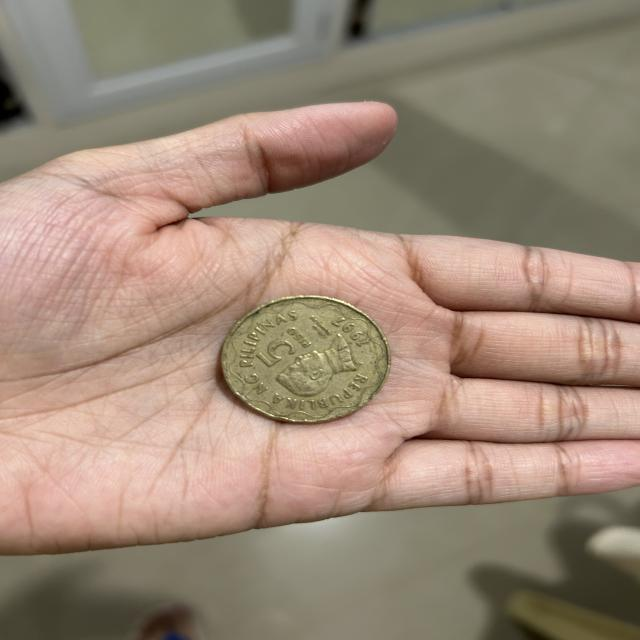5_Old_Front: (255, 324, 313, 370)
